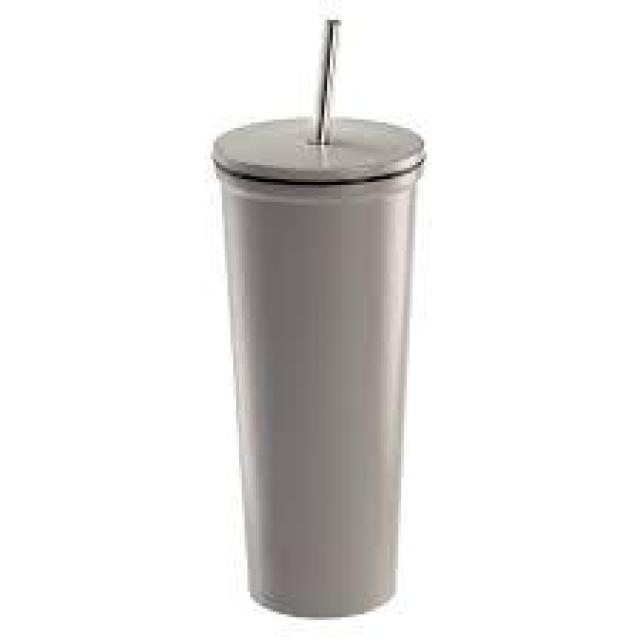bottle: (213, 16, 424, 618)
